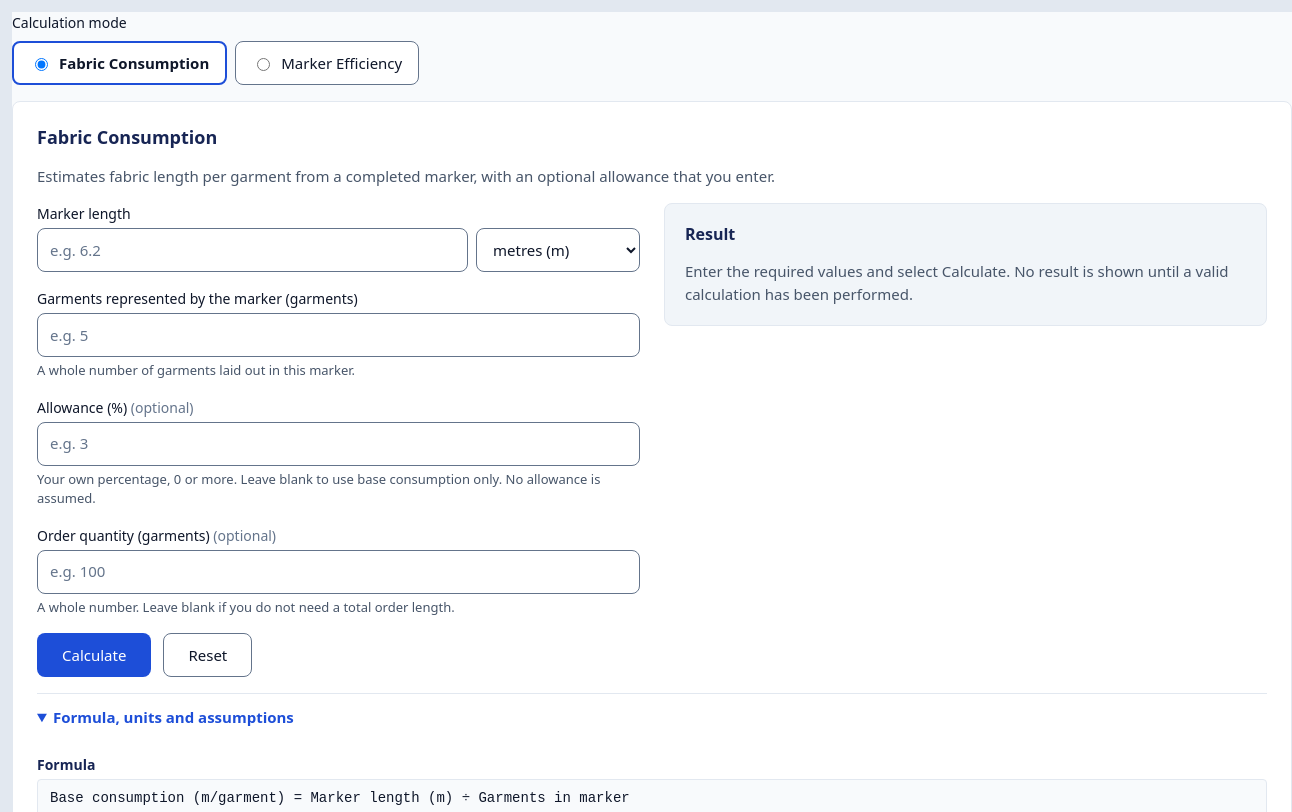
FabricConsumptionPage › shows base consumption only when no allowance is entered
In the field labelled "Marker length": (252, 250) [37,228,468,272], type "6.2"
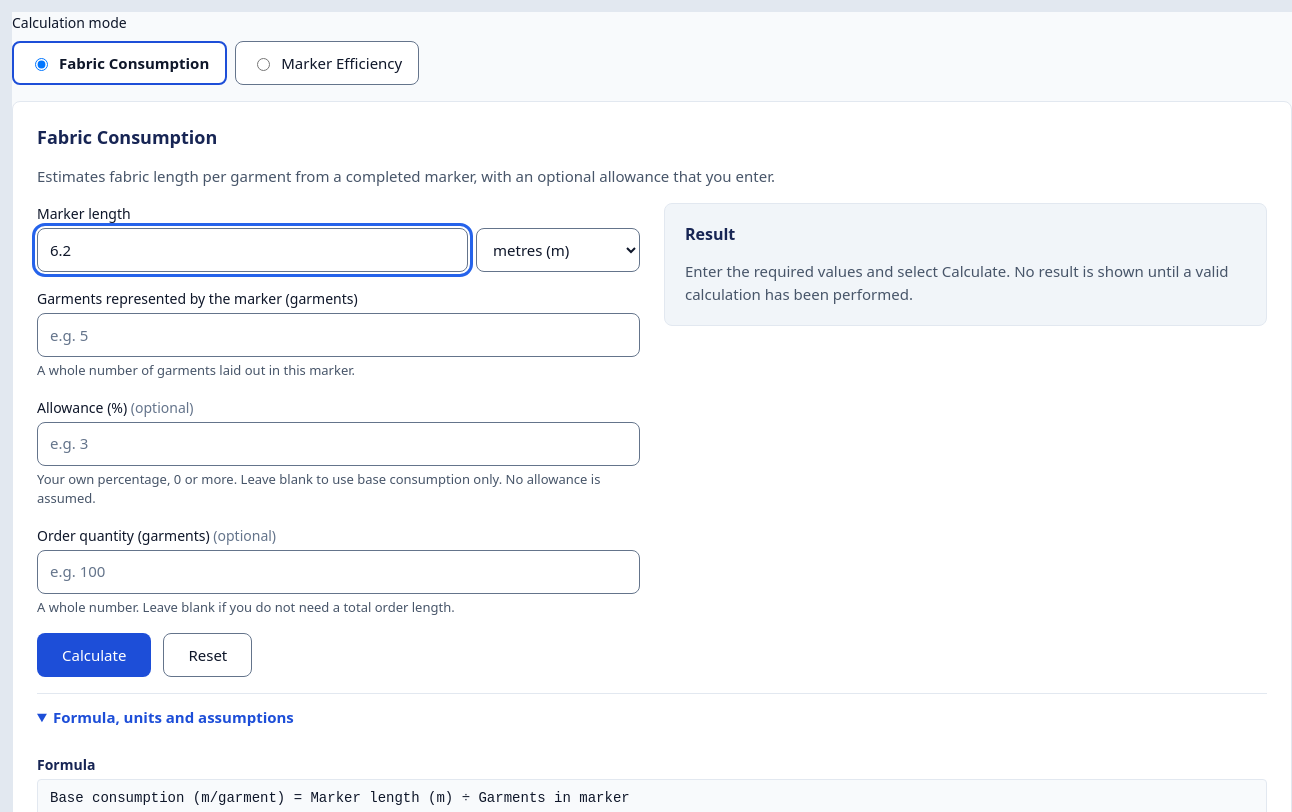
In the field labelled "Garments represented by the marker (garments)": (338, 335) [37,313,640,357], type "5"
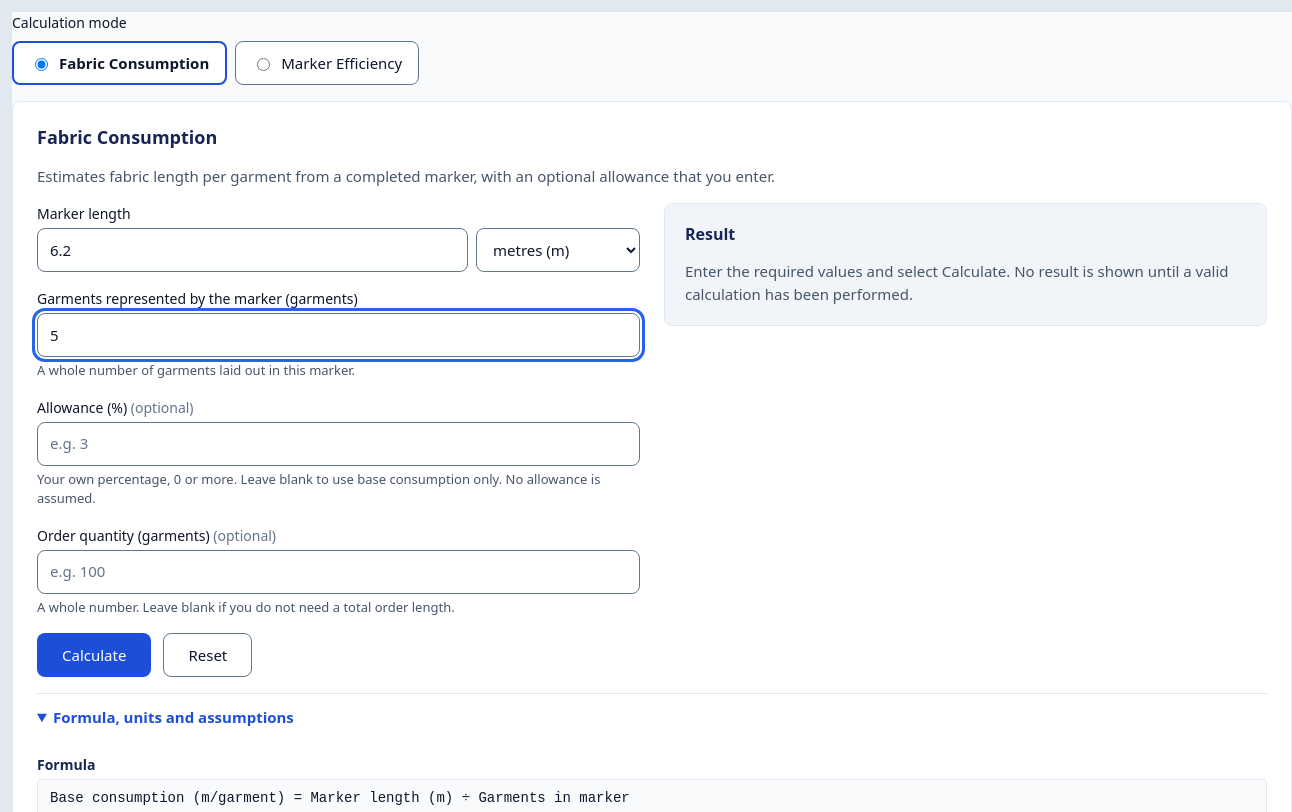
Click the button "Calculate": (94, 655) [37,633,151,677]
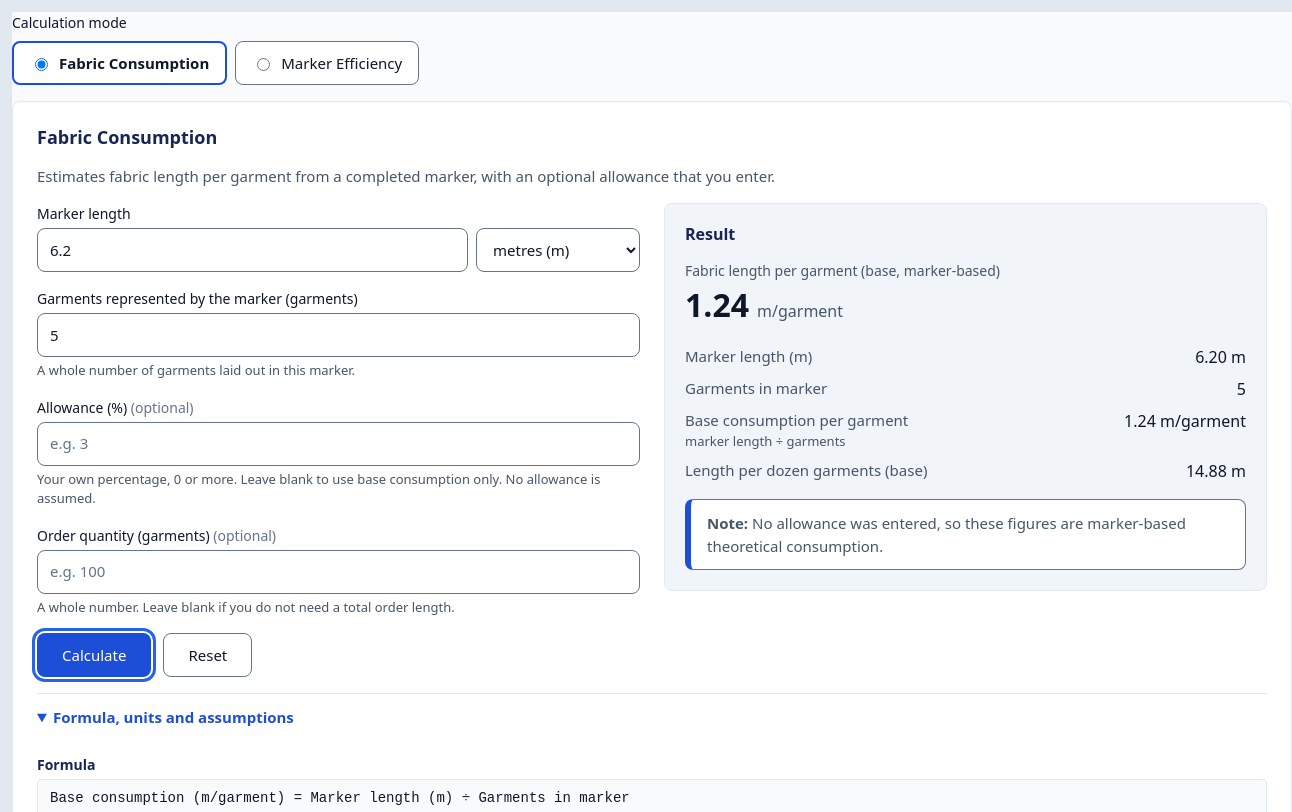
Check: the text "Fabric length per garment (base, marker-based)" is shown, box [685,261,1000,280]
